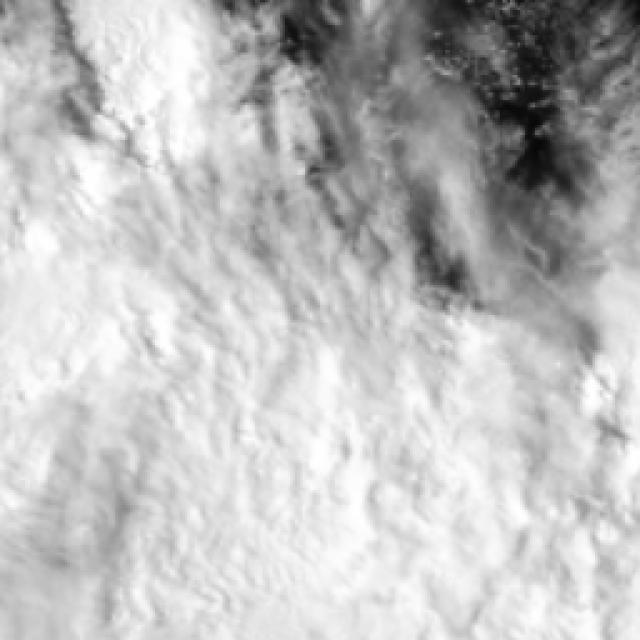CB: (222, 376, 493, 606)
